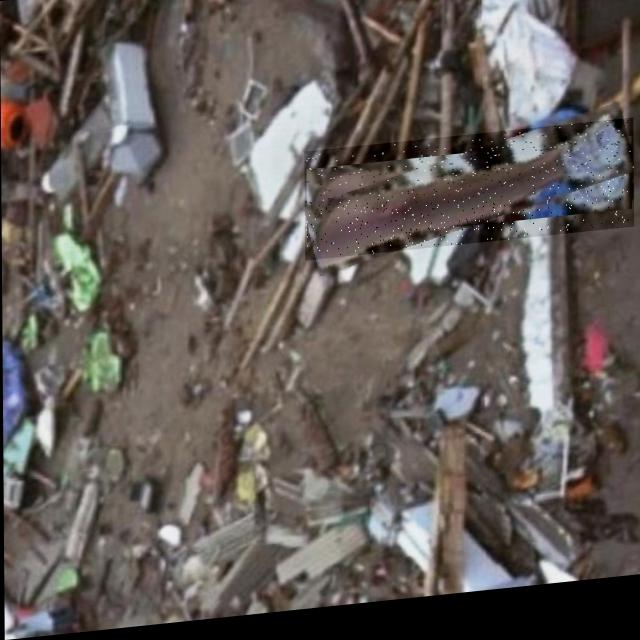Person in Rubble: (304, 130, 634, 266)
